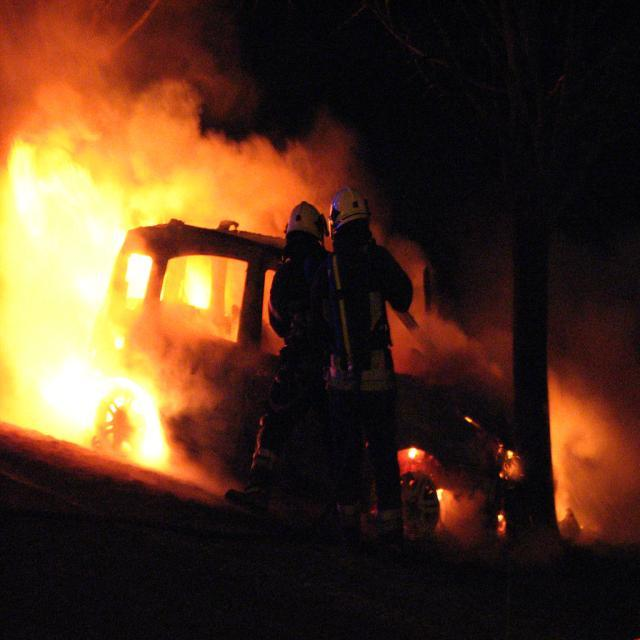Fire: (18, 168, 144, 438)
